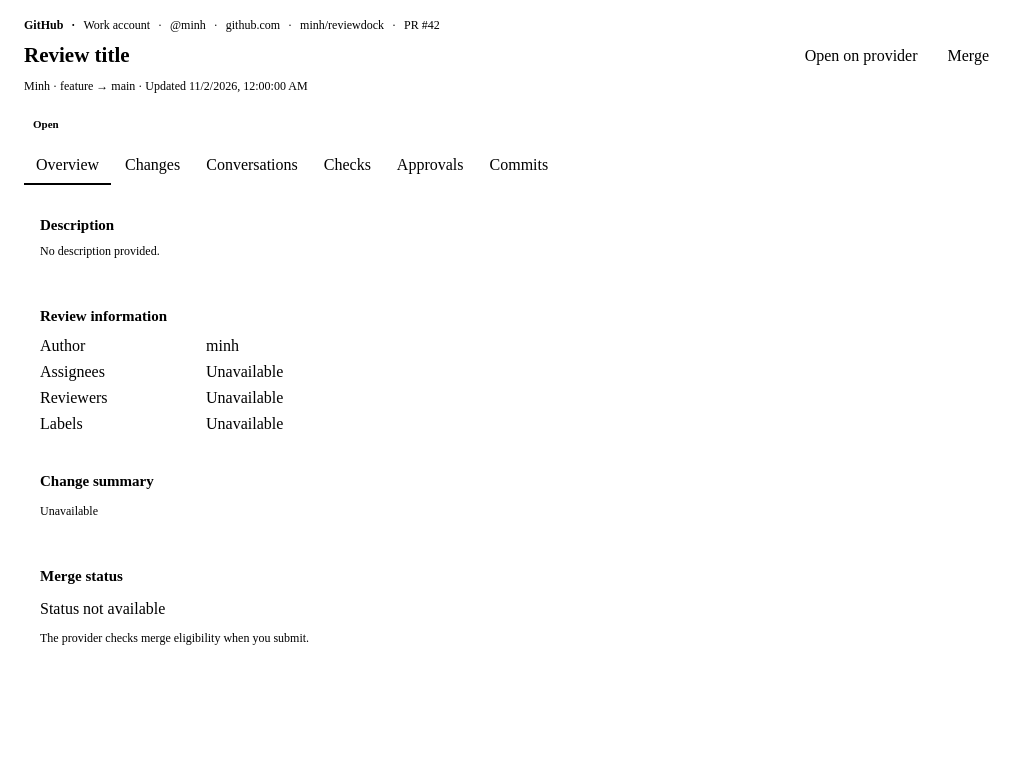
Test: ReviewDock webview entry point › keeps Rich mode selected while full Markdown content loads and renders
Later steps or results of the test are not shown.
Click the button "Changes".
click(153, 165)  # box [113,145,192,185]
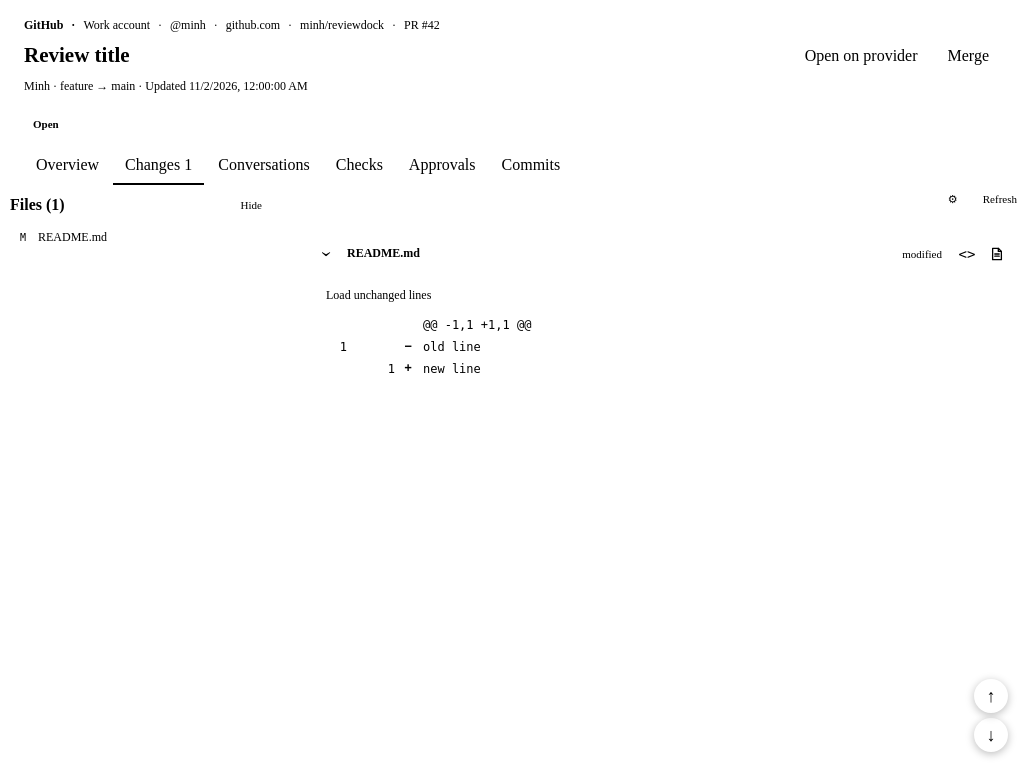
Click the button named "Changes settings".
click(953, 199)  # box [938,185,968,213]
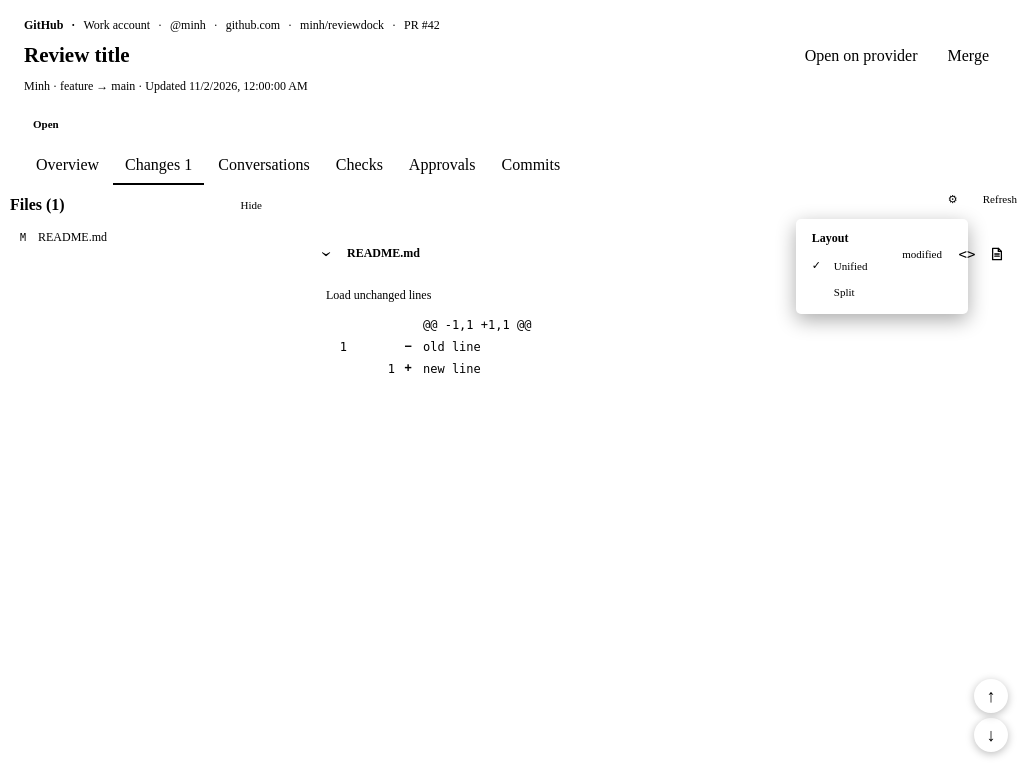
Expected: the element named "Layout" is shown, [806,253,958,304]
Expected: the radio button labelled "Split" is shown
Click the radio button labelled "Split".
click(882, 292)  # box [806,280,958,304]
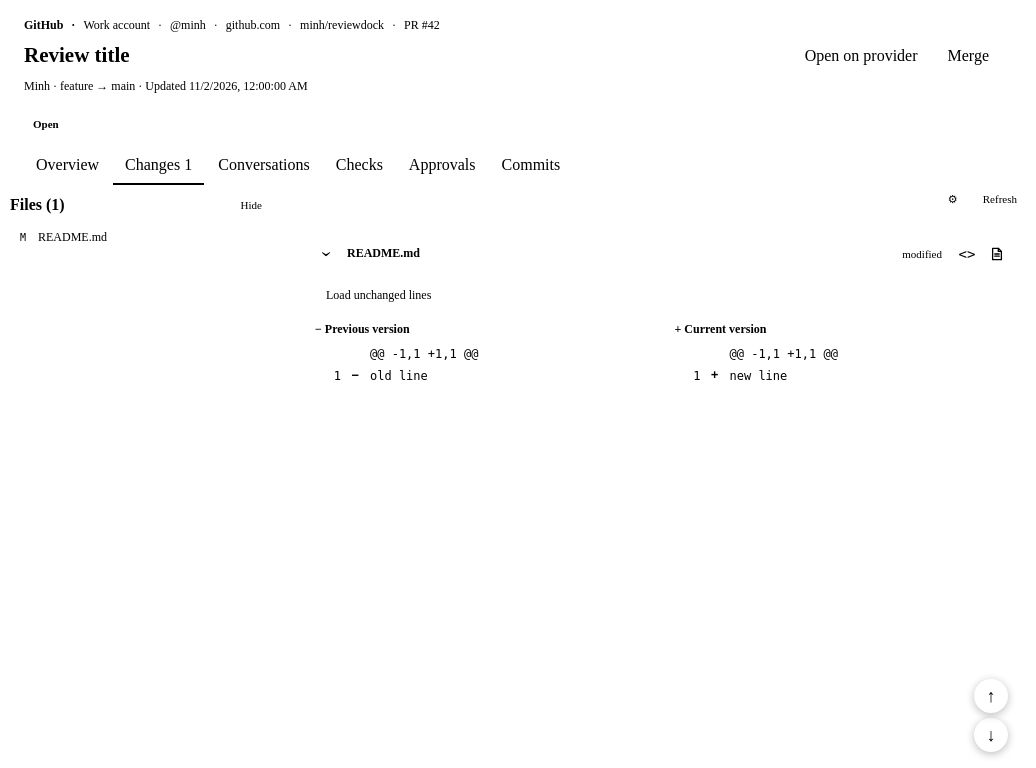
Click the button named "Changes settings".
click(953, 199)  # box [938,185,968,213]
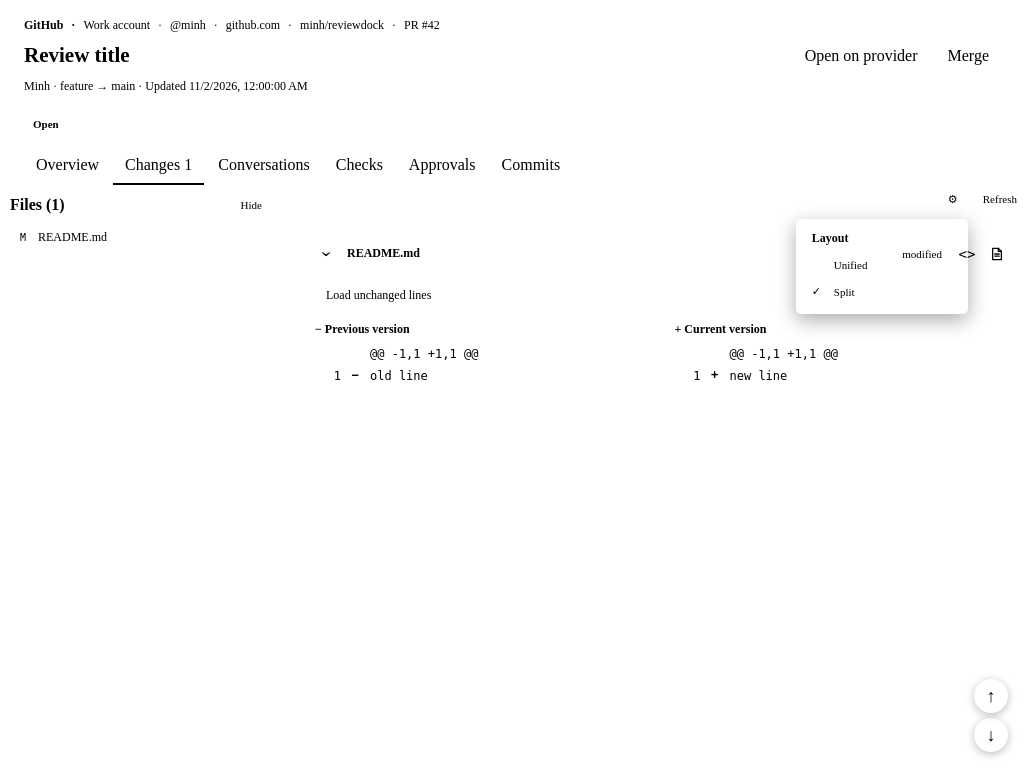
Expected: the button named "Display the rich diff" is shown
Expected: the radio button labelled "✓ Split" is shown, [806,279,958,304]
Click the button named "Display the rich diff".
click(997, 254)  # box [982,240,1012,267]
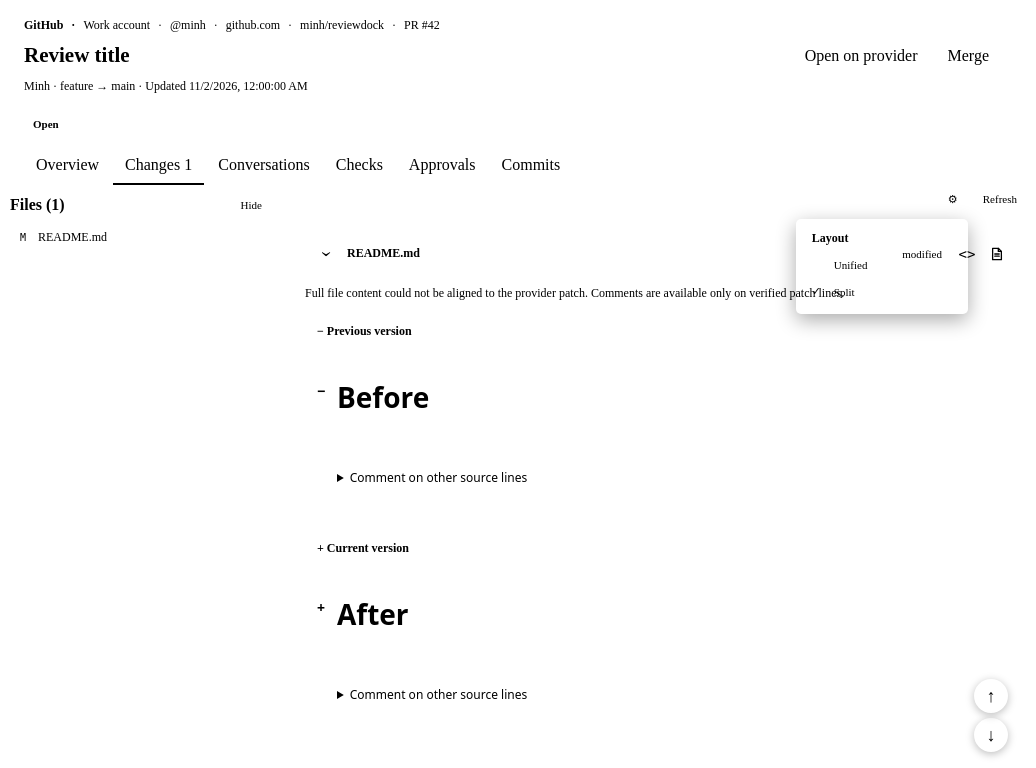
Expected: the element with class "rich-diff" shows "Before", [337,378,429,416]
Expected: the element with class "rich-diff" shows "After", [337,595,409,633]
